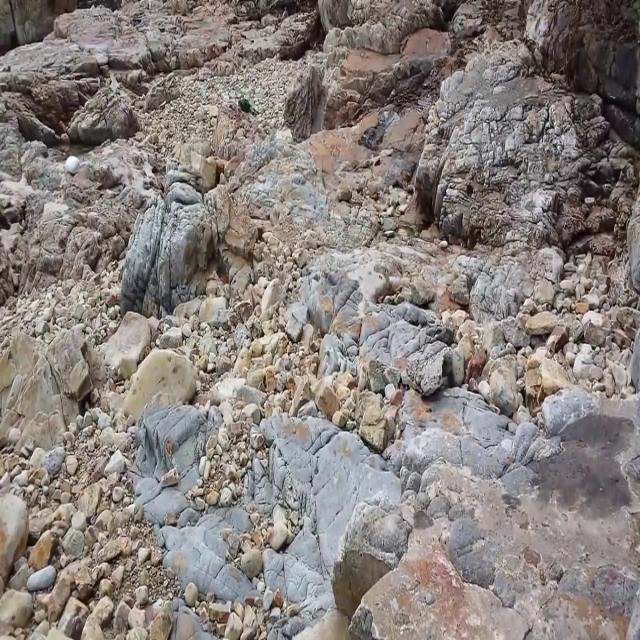Camouflage: (281, 62, 327, 147)
